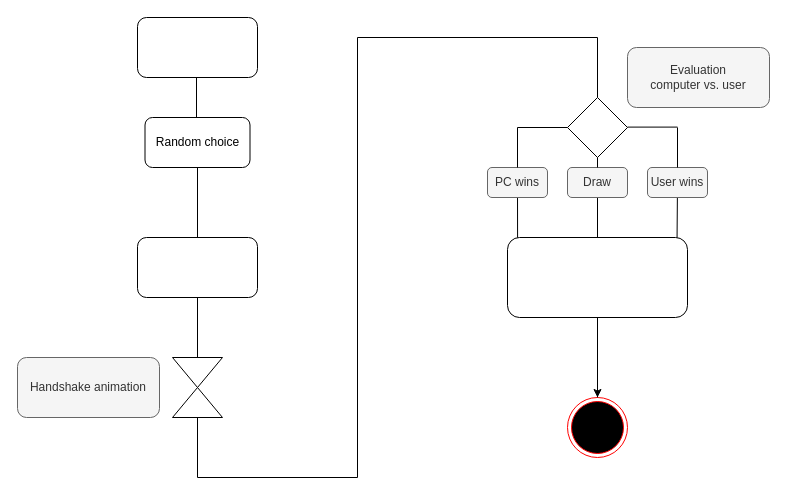
Image size: 787x496. Some labels were removed from this diagram. Each missing label, with the centre of its shape:
"Initiation - eventlistener setting up the interface" belongs at pixel 197 47.
"Show screen based on result" belongs at pixel 597 277.
"User choice" belongs at pixel 197 267.
